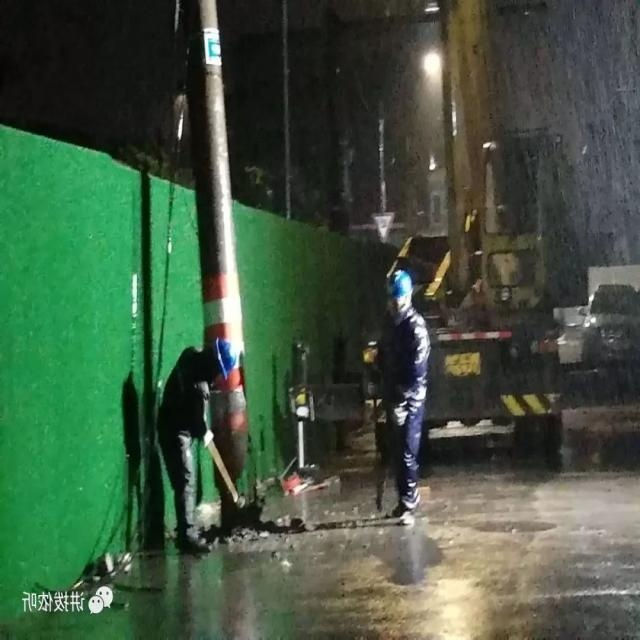Con_Casco: (386, 269, 413, 315), (210, 339, 236, 384)
